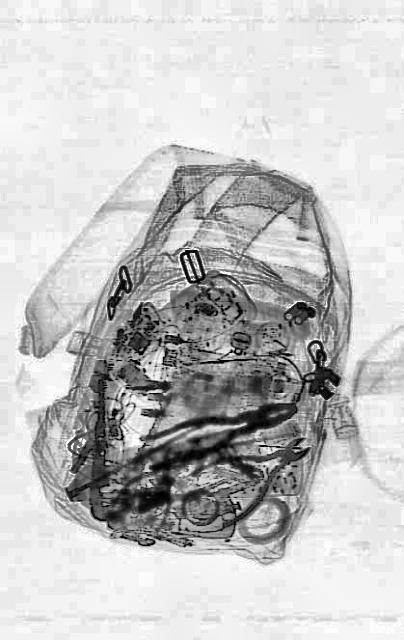Pliers: (186, 408, 318, 540), (138, 380, 300, 478)
